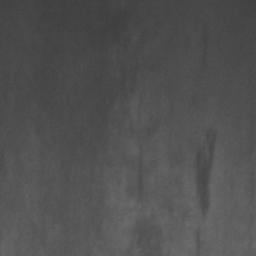Inclusion: (195, 129, 216, 215)
